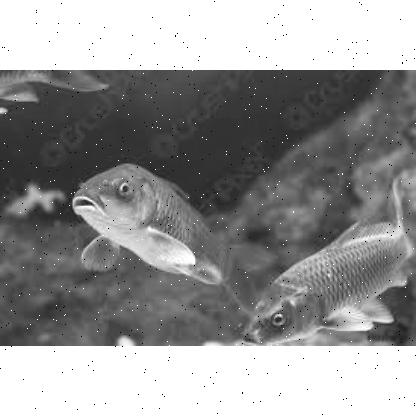ikan-mas: (72, 158, 254, 306), (244, 196, 412, 344)
